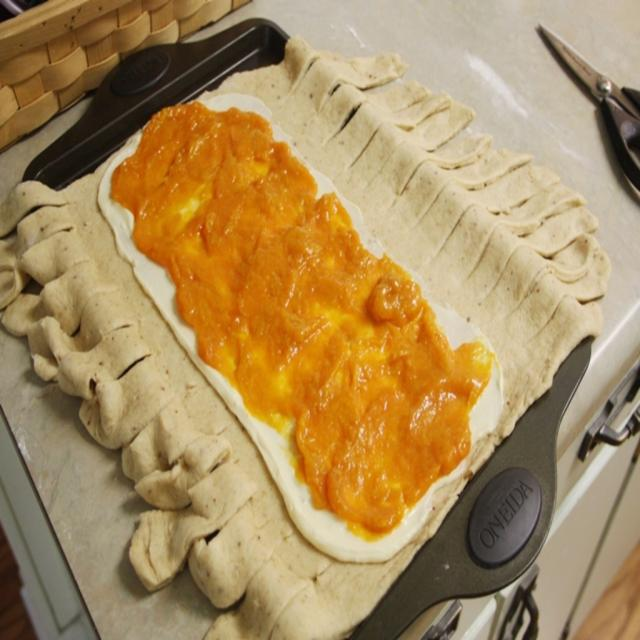scissors: (536, 21, 640, 199)
